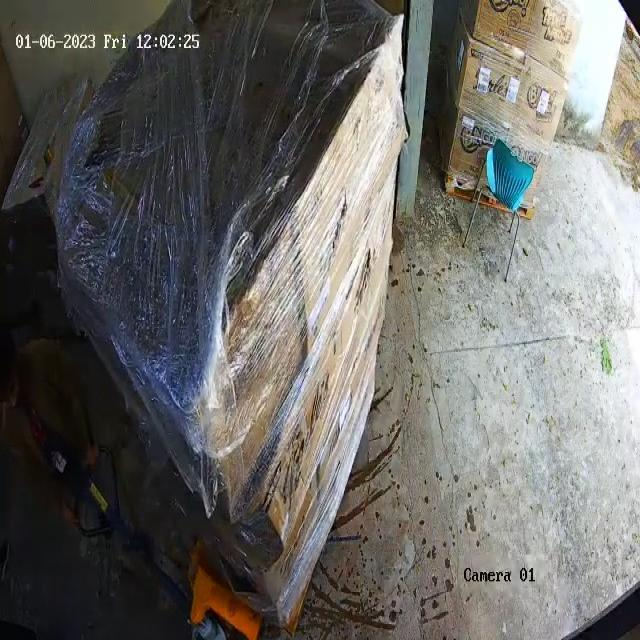leakage: (357, 243, 384, 324), (330, 191, 347, 249)
squeeze: (88, 157, 254, 424)
